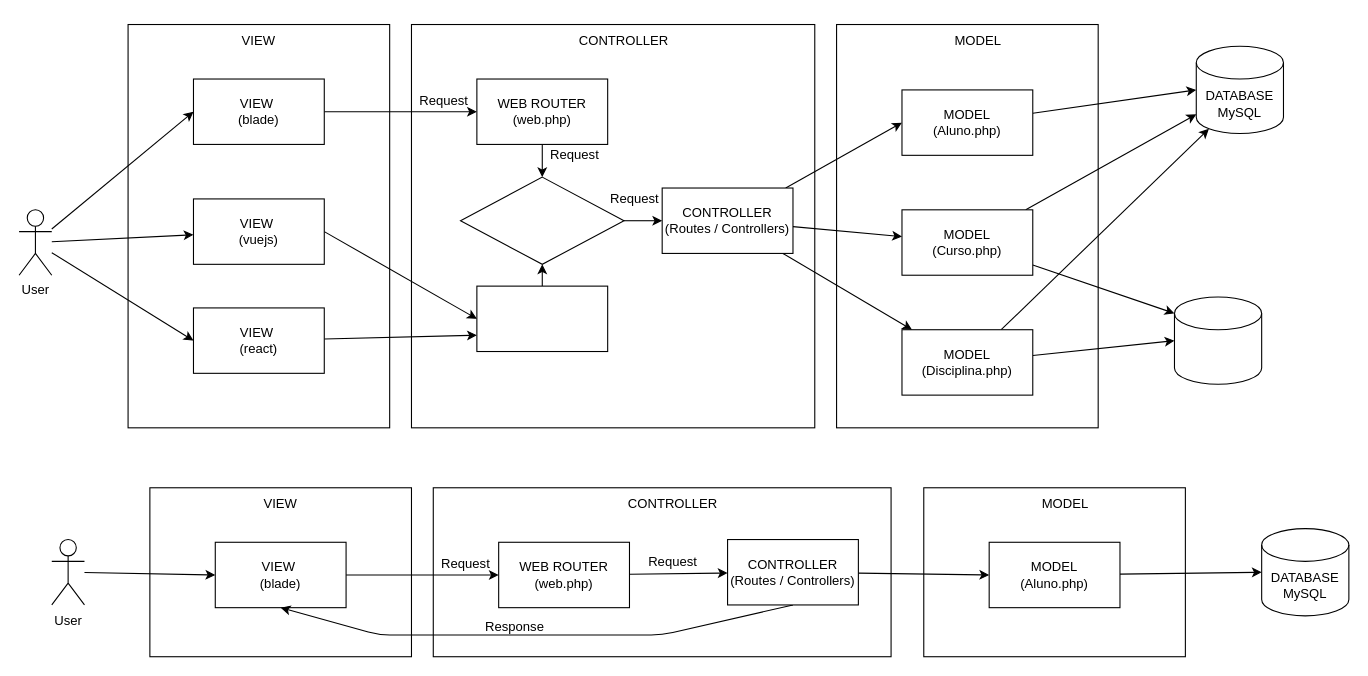
Some shapes in this 1368 by 676 pixel diagram are drawn without their labels. The box of each missing label's shape, as (x1, y1, x2, y2) in pixels:
API ROUTER (api.php): (476, 285, 608, 352)
DATABASE Redis: (1173, 296, 1262, 384)
MIDDLEWARE: (459, 176, 624, 264)
